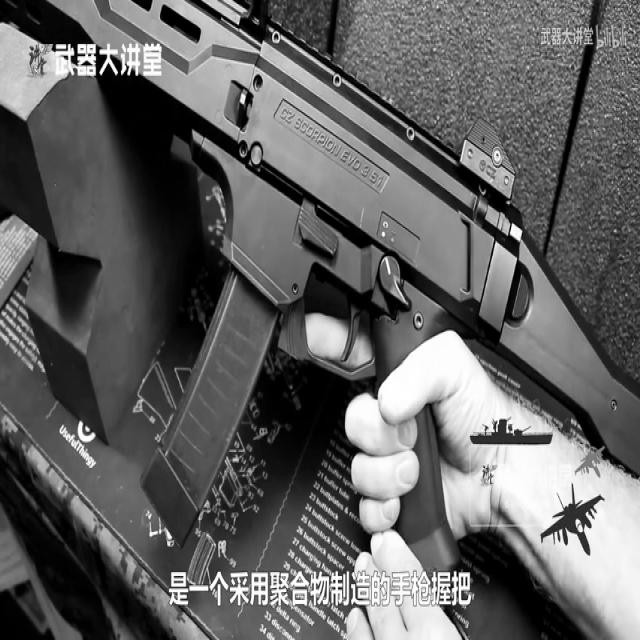Sub-machine-gun: (59, 0, 639, 619)
